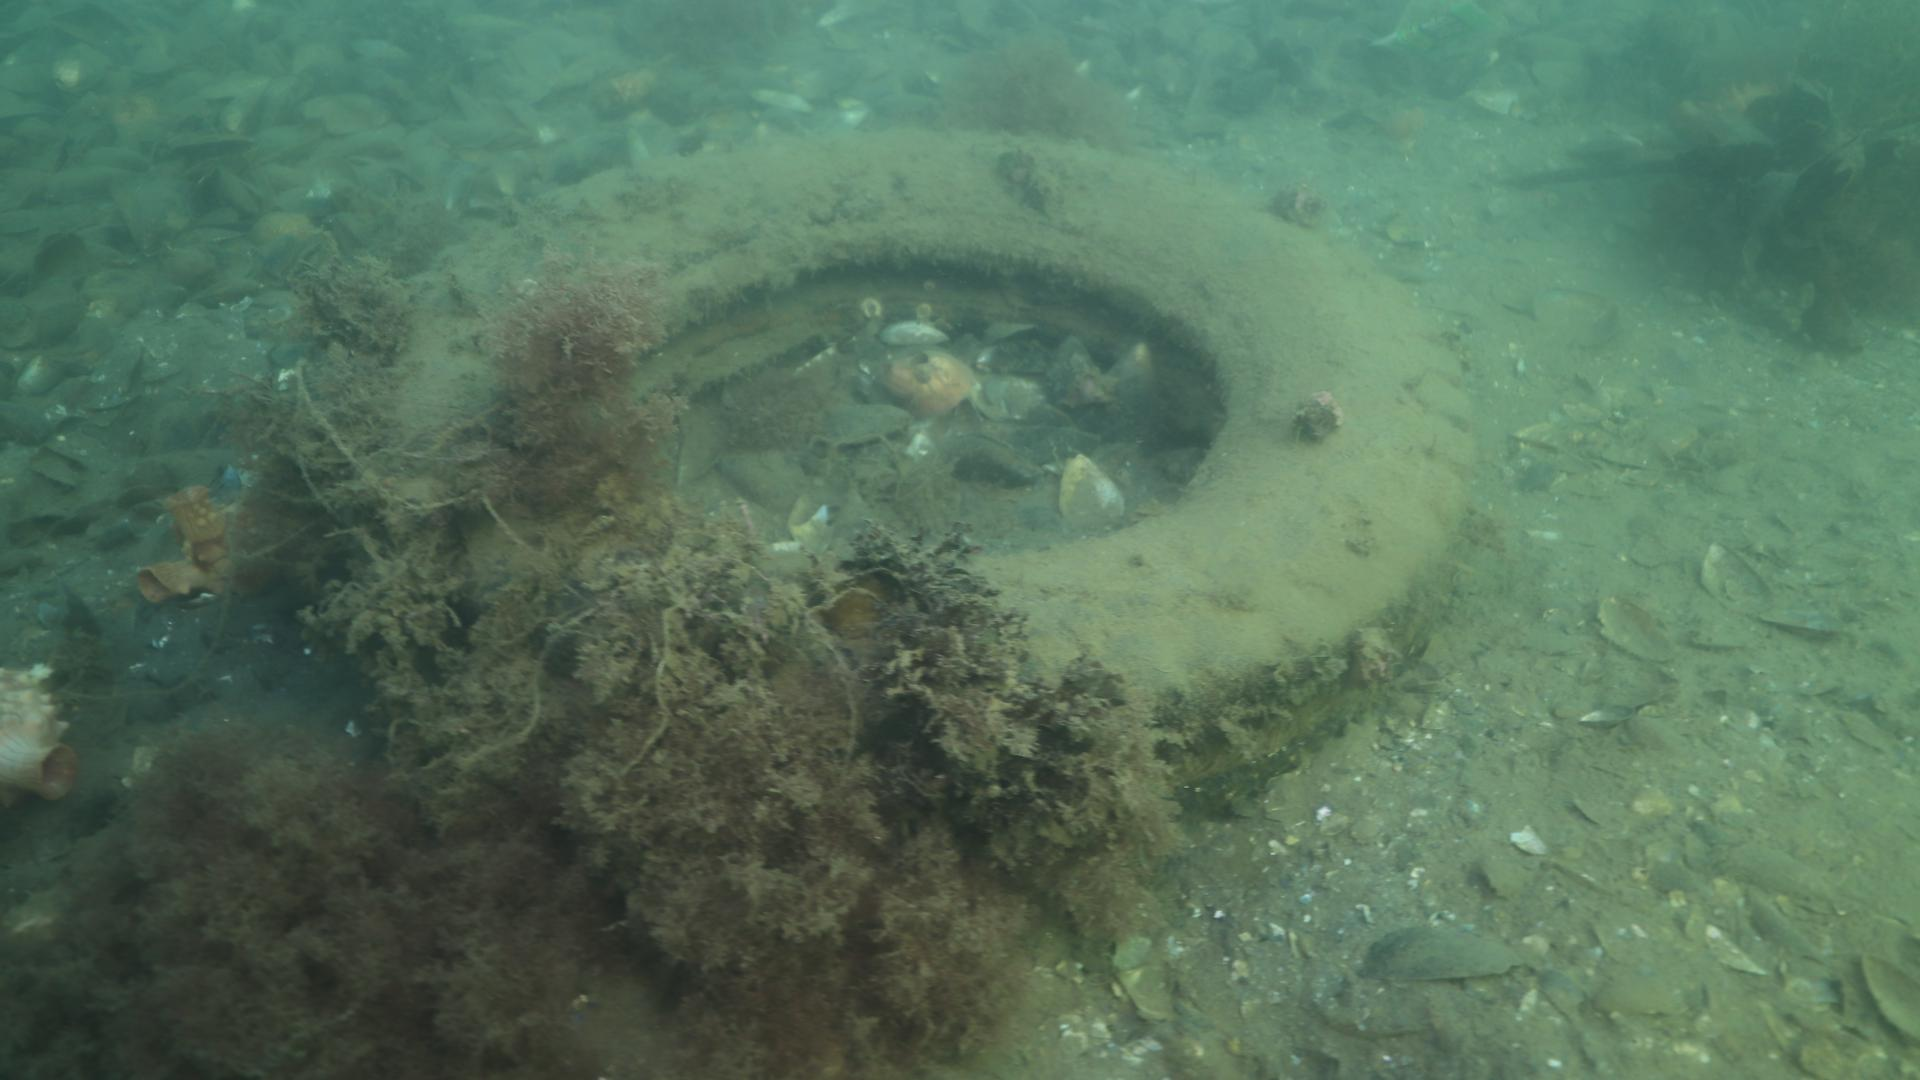tire: (392, 128, 1476, 816)
